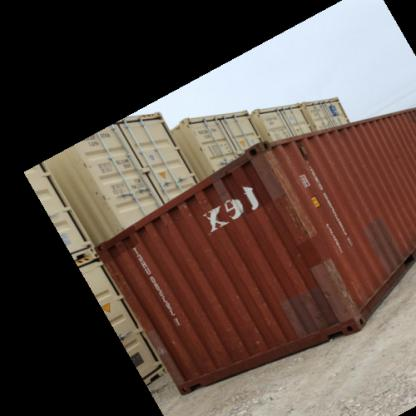Damage: (276, 172, 318, 234), (324, 254, 359, 322), (251, 140, 282, 168), (188, 192, 209, 209), (152, 340, 171, 358)
